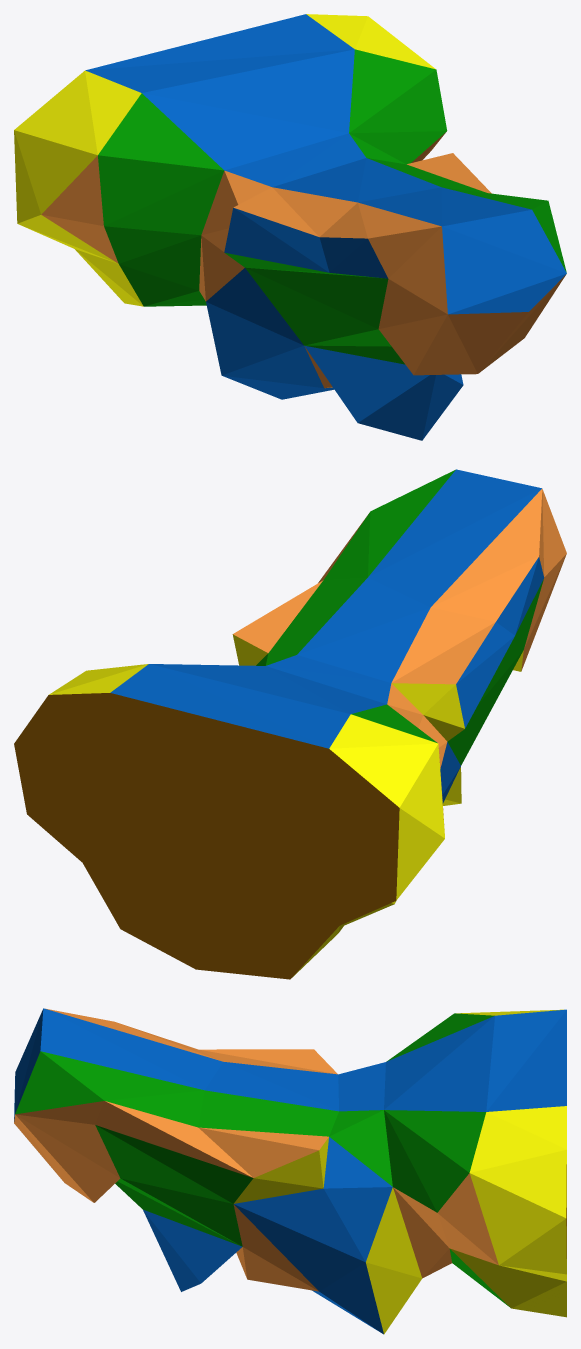
File: moai.obj
3 views of the same model, one above another, from view 1: azimuth 30°, elevation 25°; view 2: azimuth 150°, elevation 25°; view 3: azimuth 270°, elevation 25° (orthographic). The views are drawn at different scales.
Parts seen in each view (by area): view 1: moai_couleur_000_102_203, moai_couleur_000_153_000, moai_couleur_256_153_061, moai_couleur_256_256_001; view 2: moai_couleur_163_102_000, moai_couleur_000_102_203, moai_couleur_256_153_061, moai_couleur_256_256_001, moai_couleur_000_153_000; view 3: moai_couleur_000_102_203, moai_couleur_000_153_000, moai_couleur_256_153_061, moai_couleur_256_256_001.
Boxes of the visible parts, box(x1,y1,x2,y2) form: moai_couleur_000_102_203: box(85, 14, 566, 440); moai_couleur_000_153_000: box(98, 49, 566, 364); moai_couleur_256_153_061: box(41, 131, 566, 388); moai_couleur_256_256_001: box(14, 14, 435, 306); moai_couleur_163_102_000: box(14, 693, 399, 979); moai_couleur_000_102_203: box(110, 469, 544, 803); moai_couleur_256_153_061: box(233, 488, 566, 824); moai_couleur_256_256_001: box(49, 634, 523, 977); moai_couleur_000_153_000: box(256, 469, 543, 765); moai_couleur_000_102_203: box(14, 1008, 566, 1334); moai_couleur_000_153_000: box(15, 1013, 510, 1307); moai_couleur_256_153_061: box(14, 1008, 498, 1291); moai_couleur_256_256_001: box(234, 1009, 566, 1334).
Bounding box in the file's own units: 95.64 × 72.65 × 126.
